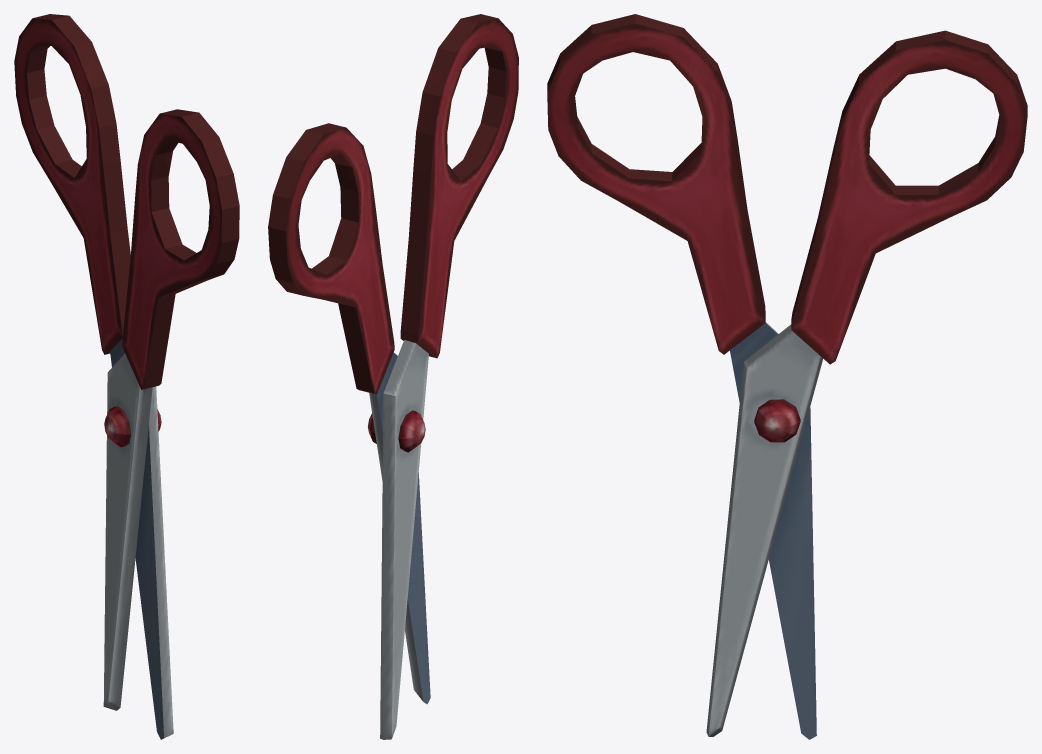
The model's file is BianLiDian_01_jiandao_01.FBX.
3 renders of one model, left to right at view 1: azimuth 30°, elevation 25°; view 2: azimuth 150°, elevation 25°; view 3: azimuth 270°, elevation 25°, orthographic. The views are drawn at different scales.
Visible parts, largest first — view 1: BianLiDian_01_jiandao_01; view 2: BianLiDian_01_jiandao_01; view 3: BianLiDian_01_jiandao_01.
Part boxes in pixels (bbox=[...]): BianLiDian_01_jiandao_01: bbox=[14, 14, 239, 739]; BianLiDian_01_jiandao_01: bbox=[268, 14, 518, 739]; BianLiDian_01_jiandao_01: bbox=[547, 14, 1027, 739].
Bounding box in the file's own units: 9.07 × 112 × 67.86.
